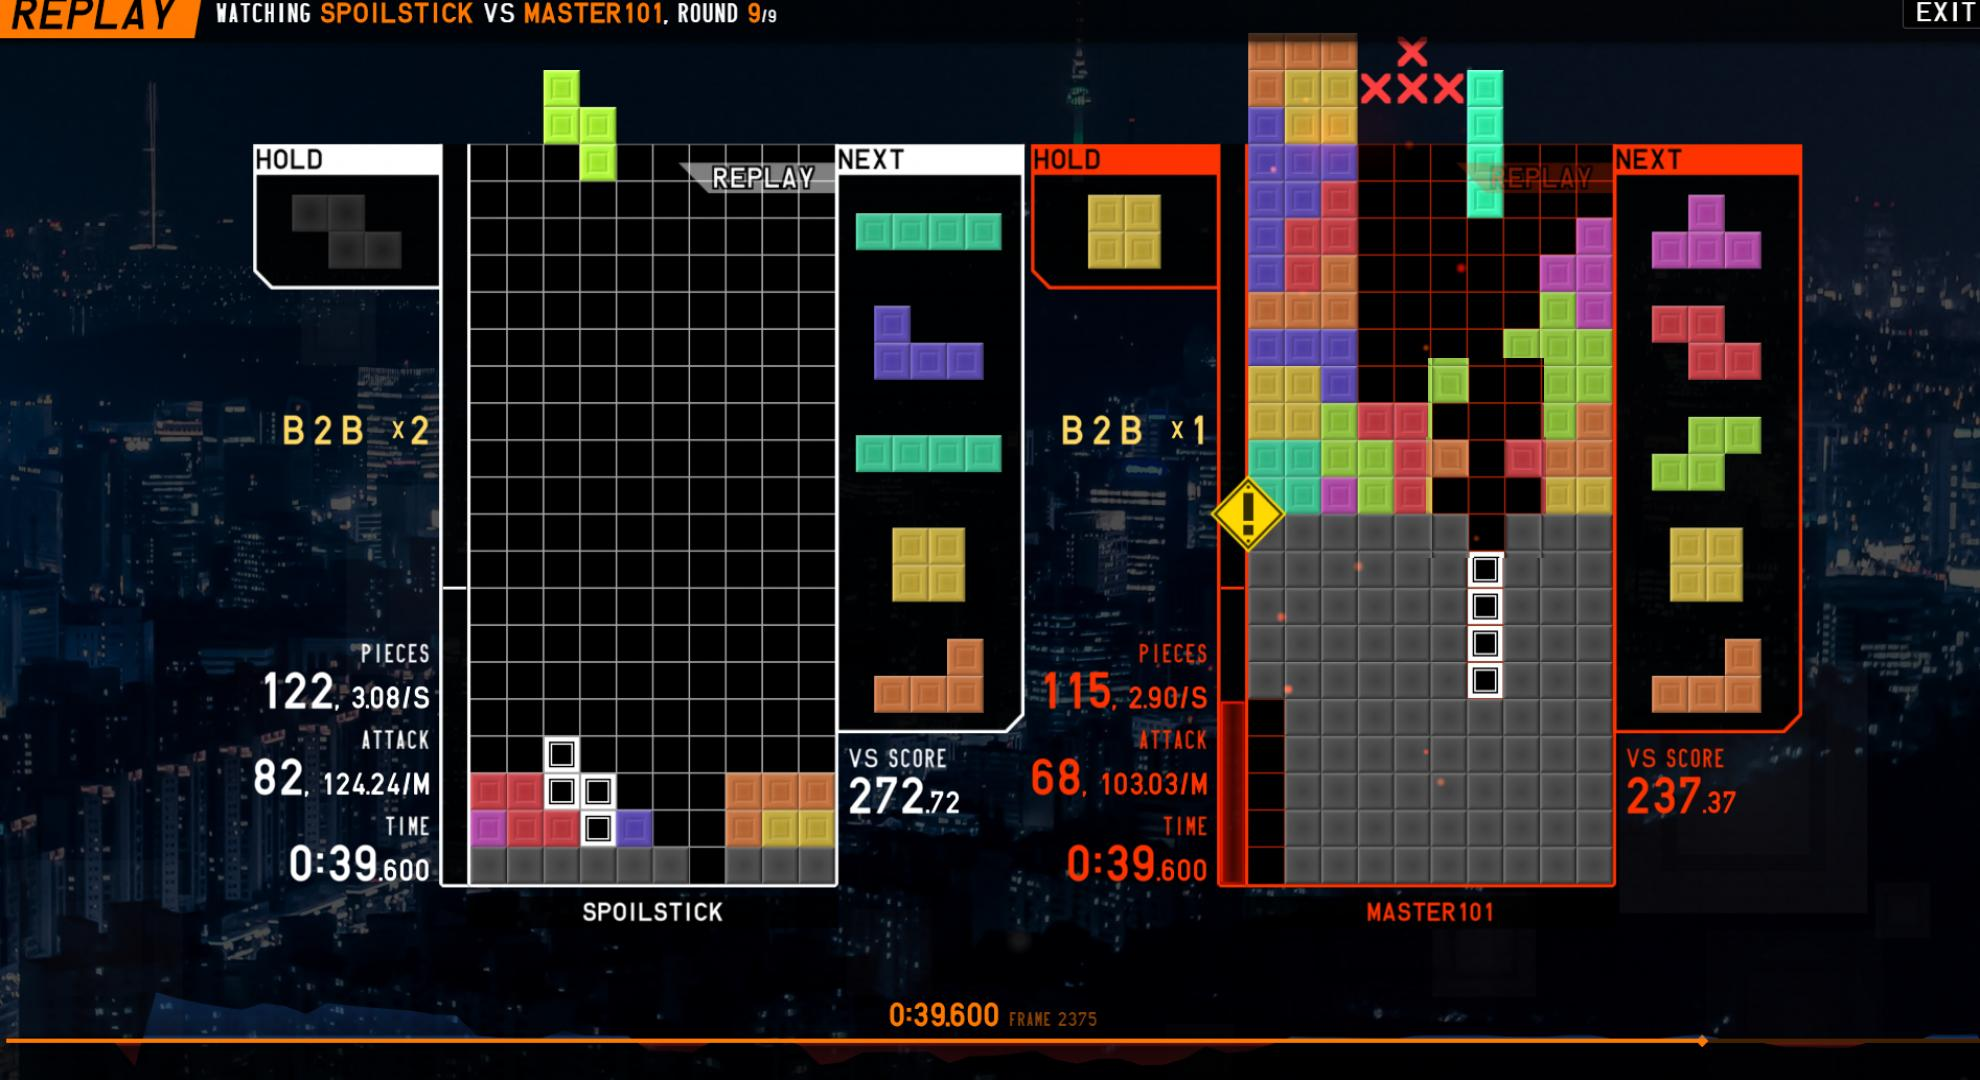tspin: (1425, 436, 1547, 559), (1428, 358, 1544, 475)
